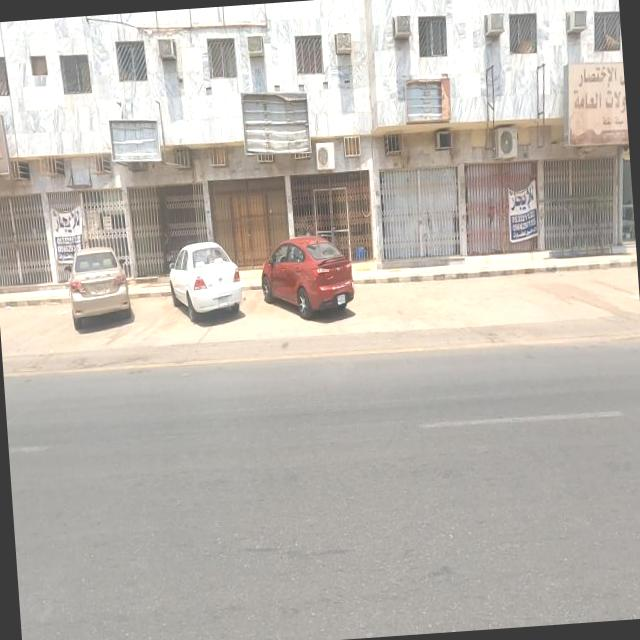debris: (203, 36, 351, 204), (528, 14, 632, 193), (73, 72, 194, 210), (366, 24, 486, 163)
